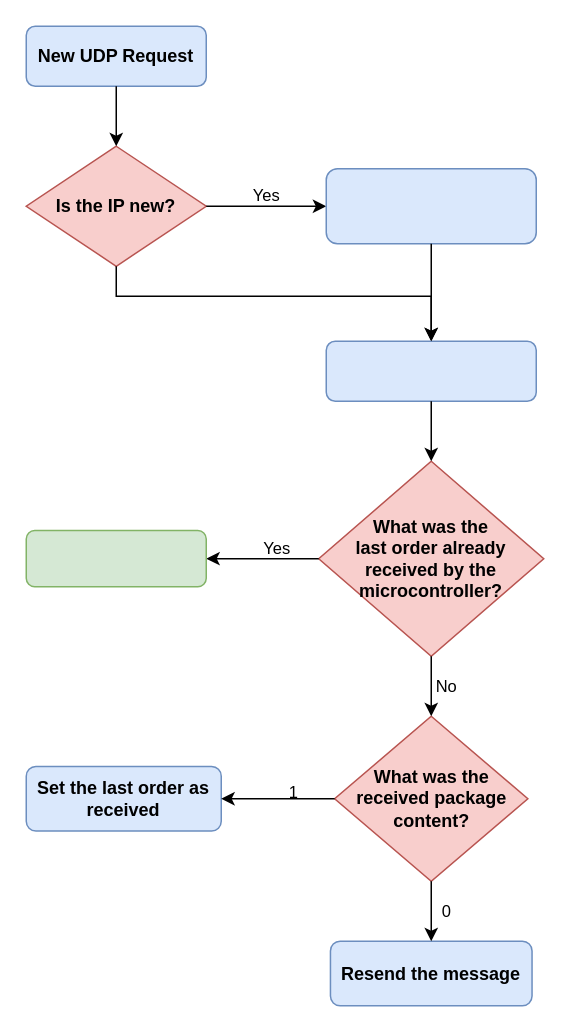
The diagram is 570 pixels wide and 1032 high, and some of its shapes have lost their labels. Here are the shapes that lost their labels. From the top down, the centre of each, then its label:
At point 430,205: "Add a new device to the device's map".
At point 430,370: "Storage the package received time".
At point 115,558: "Return".
